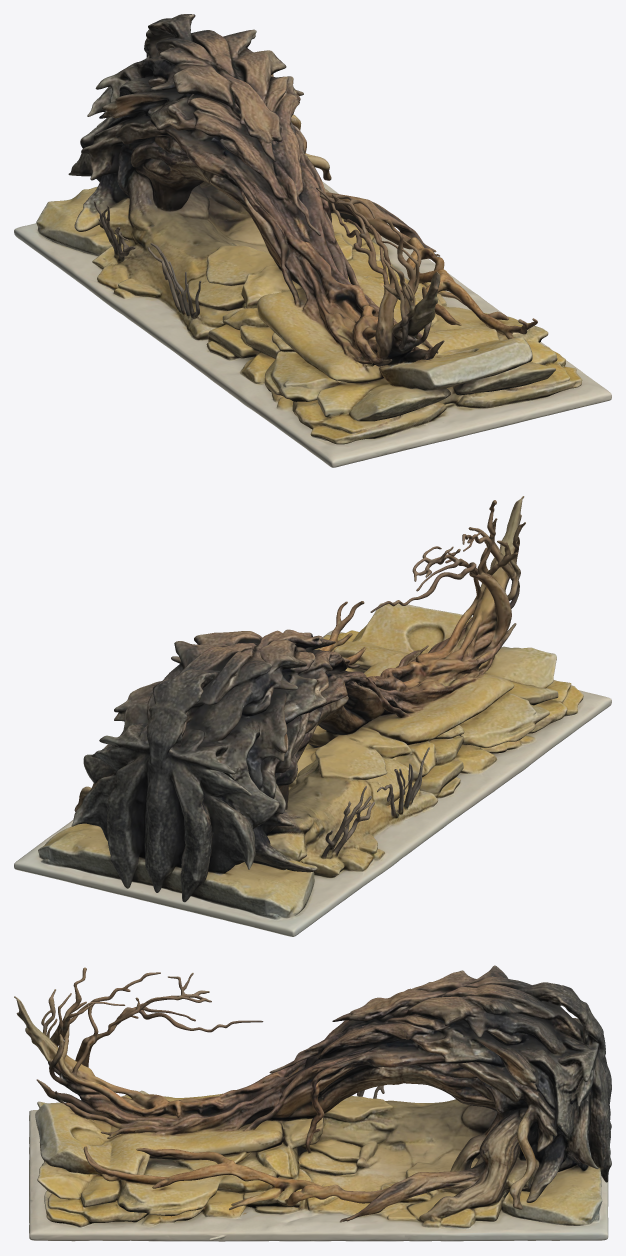
File: Cauvongver4-v8.glb
3 views of the same model, one above another, from view 1: azimuth 30°, elevation 25°; view 2: azimuth 150°, elevation 25°; view 3: azimuth 270°, elevation 25° (orthographic). The views are drawn at different scales.
Visible parts, largest first — view 1: tripo_node_d6233675-5700-4fd1-b44f-3b7bd767cfb7; view 2: tripo_node_d6233675-5700-4fd1-b44f-3b7bd767cfb7; view 3: tripo_node_d6233675-5700-4fd1-b44f-3b7bd767cfb7.
Part boxes in pixels (<box>): tripo_node_d6233675-5700-4fd1-b44f-3b7bd767cfb7: <box>14,14,611,467</box>; tripo_node_d6233675-5700-4fd1-b44f-3b7bd767cfb7: <box>14,496,611,936</box>; tripo_node_d6233675-5700-4fd1-b44f-3b7bd767cfb7: <box>14,965,611,1241</box>.
Bounding box in the file's own units: 0.5023 × 0.3538 × 1.
1 material, 1 textured.
